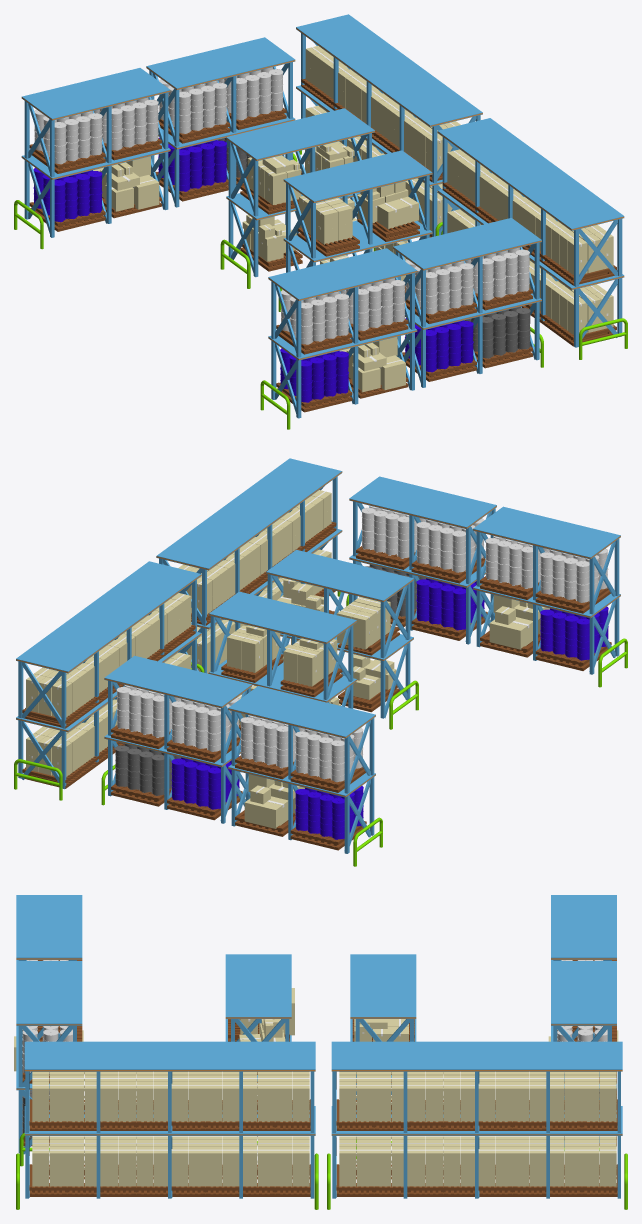
File: tempat penyimpanan.fbx
3 views of the same model, one above another, from view 1: azimuth 30°, elevation 25°; view 2: azimuth 150°, elevation 25°; view 3: azimuth 270°, elevation 25° (orthographic). The views are drawn at different scales.
Visible parts, largest first — view 1: Cube.036, Cube.212, Cube.058, Cube.207, Cube.173, Cube.002, Cube.050, Cube.172, Cube.049, Cube.019, Cube.026, Cube.187 (+28 smaller); view 2: Cube.036, Cube.212, Cube.049, Cube.058, Cube.002, Cube.207, Cube.172, Cube.050, Cube.173, Cube.019, Cube.026, Cube.167 (+30 smaller); view 3: Cube.173, Cube.050, Cube.172, Cube.049, Cube.207, Cube.058, Cube.002, Cube.212, Cube.036, Cube.026, Cube.019, Cube.163 (+37 smaller).
Boxes of the visible parts, x1,y1,x2,y2 form: Cube.036: [21, 68, 170, 237]; Cube.212: [268, 248, 417, 418]; Cube.058: [283, 150, 432, 272]; Cube.207: [393, 218, 541, 387]; Cube.173: [506, 166, 624, 347]; Cube.002: [146, 37, 295, 207]; Cube.050: [363, 62, 482, 236]; Cube.172: [437, 118, 555, 234]; Cube.049: [296, 14, 416, 158]; Cube.019: [226, 122, 317, 216]; Cube.026: [285, 108, 374, 172]; Cube.187: [559, 225, 613, 274]; Cube.036: [228, 686, 375, 853]; Cube.212: [473, 506, 620, 674]; Cube.049: [16, 610, 136, 789]; Cube.058: [266, 549, 413, 718]; Cube.002: [104, 655, 252, 823]; Cube.207: [349, 476, 496, 644]; Cube.172: [156, 506, 276, 673]; Cube.050: [82, 561, 201, 670]; Cube.173: [225, 458, 342, 595]; Cube.019: [265, 605, 356, 699]; Cube.026: [209, 591, 296, 685]; Cube.167: [26, 668, 79, 717]; Cube.173: [24, 1041, 172, 1198]; Cube.050: [331, 1041, 479, 1198]; Cube.172: [167, 1041, 315, 1198]; Cube.049: [474, 1041, 622, 1198]; Cube.207: [16, 961, 82, 1154]; Cube.058: [225, 954, 291, 1083]; Cube.002: [551, 961, 616, 1147]; Cube.212: [16, 895, 82, 960]; Cube.036: [551, 895, 616, 960]; Cube.026: [350, 987, 416, 1077]; Cube.019: [350, 954, 416, 986]; Cube.163: [408, 1136, 443, 1186].
Bounding box in the file's own units: 1667 × 608 × 2412.
